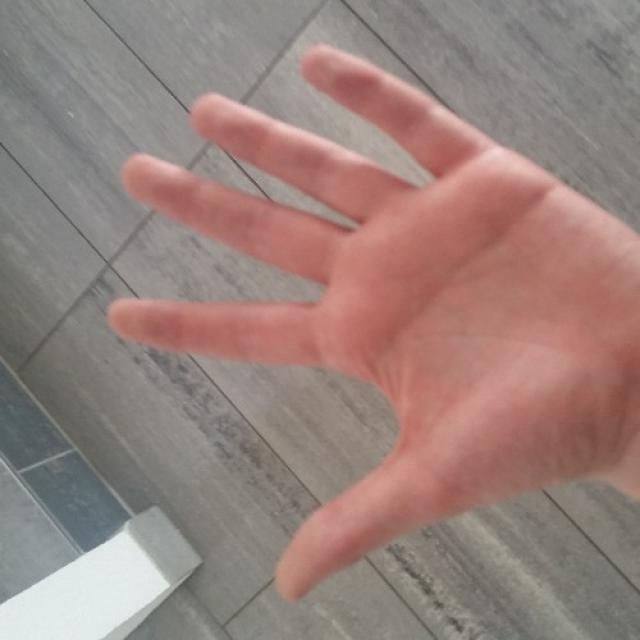paper: (111, 43, 624, 603)
